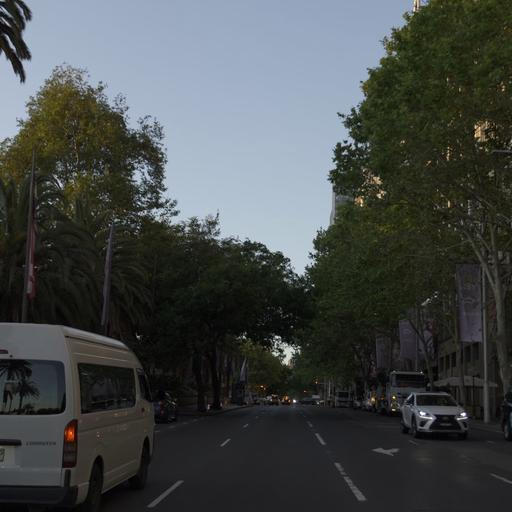Street light: (489, 143, 511, 433), (414, 290, 438, 378), (489, 146, 511, 158)
